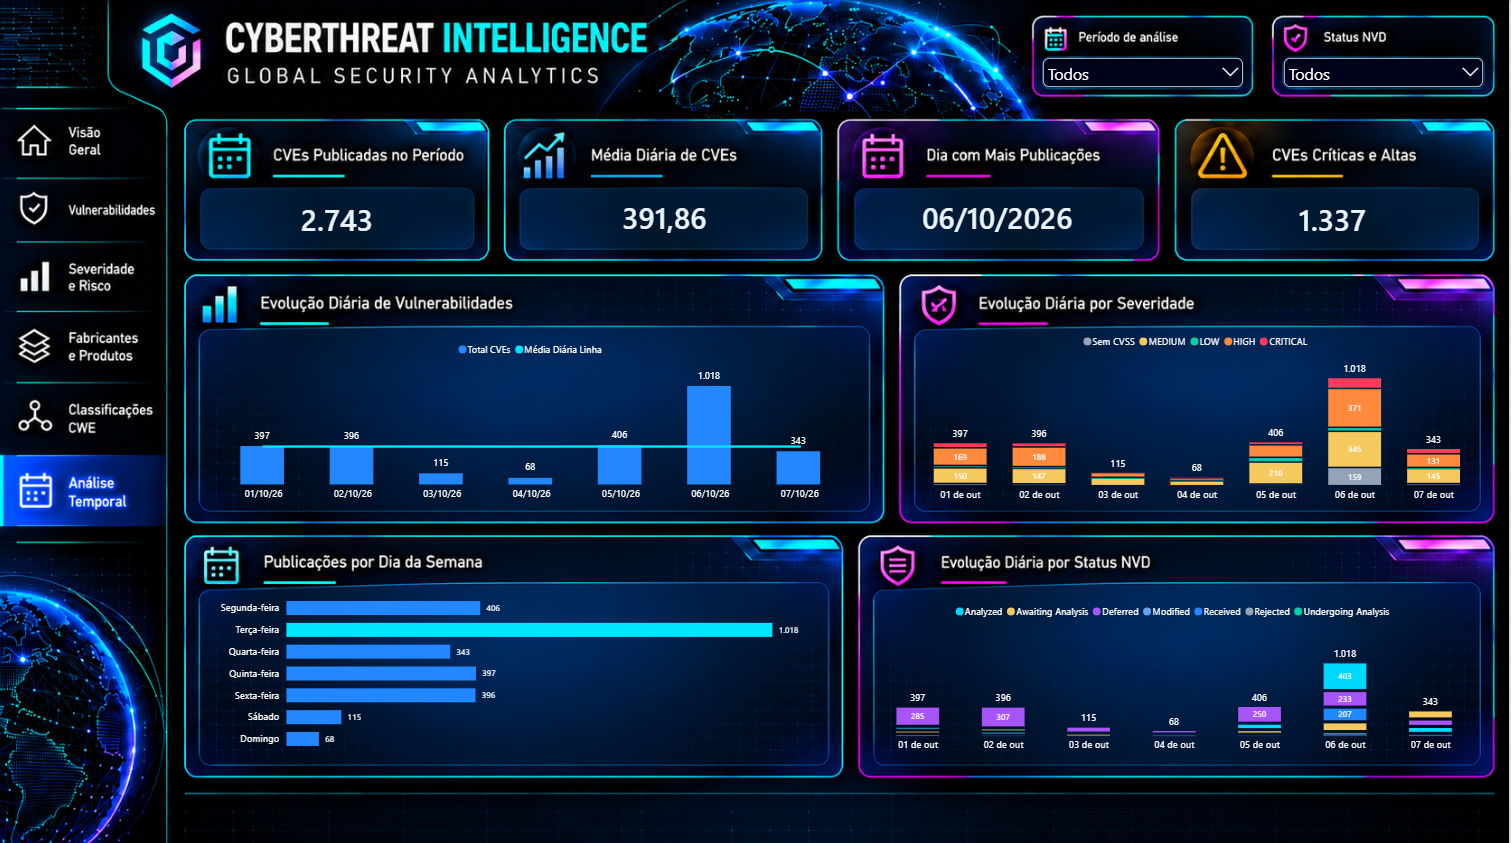

What the dashboard file says about the page in this screenshot:
{"tool":"powerbi","page":{"name":"Análise Temporal","canvas":[1920,1080],"ordinal":5},"visuals":[{"type":"card","fields":{"Values":["_Medidas.Total CVEs"]},"box":[260.1,238.4,340.4,81.6],"z":0},{"type":"slicer","fields":{"Values":["dim_data.data"]},"box":[1322.4,68.7,263.9,126.6],"z":1000},{"type":"slicer","fields":{"Values":["dim_status.status_nvd"]},"box":[1629.4,68.7,262.6,127.9],"z":2000},{"type":"card","fields":{"Values":["_Medidas.Média Diária de CVEs"]},"box":[662.6,236.8,367.1,80.8],"z":3000},{"type":"card","fields":{"Values":["_Medidas.Dia com Mais Publicações Exibição"]},"box":[1086.7,236.8,367.1,80.8],"z":4000},{"type":"card","fields":{"Values":["_Medidas.CVEs Críticas e Altas"]},"box":[1512.5,238.6,367.1,80.8],"z":5000},{"type":"lineClusteredColumnComboChart","fields":{"Category":["dim_data.data"],"Y":["_Medidas.Total CVEs"],"Y2":["_Medidas.Média Diária Linha"]},"box":[246.4,416.1,863.2,241],"z":6000},{"type":"columnChart","fields":{"Category":["dim_data.data"],"Series":["fato_vulnerabilidade.Severidade CVSS Exibição"],"Y":["_Medidas.Total CVEs"]},"box":[1166.2,405.3,713.7,251.8],"z":7000},{"type":"clusteredBarChart","fields":{"Category":["dim_data.dia_semana_nome"],"Y":["_Medidas.Total CVEs"]},"box":[259.9,731.2,789.1,245.1],"z":8000},{"type":"columnChart","fields":{"Category":["dim_data.data"],"Series":["fato_vulnerabilidade.status_nvd"],"Y":["_Medidas.Total CVEs"]},"box":[1109.6,748.7,770.3,227.6],"z":9000},{"type":"actionButton","box":[0,237.6,100.4,55.9],"z":10000},{"type":"actionButton","box":[10.2,322.7,81.3,66.1],"z":11000},{"type":"actionButton","box":[10.2,420.6,78.8,57.2],"z":12000},{"type":"actionButton","box":[0,501.2,88.9,59.7],"z":12001},{"type":"actionButton","box":[22.5,156.2,52.5,53.8],"z":12002}]}

Visuals, with their boxes on the page's 1920x1080 design canvas (x1, y1, x2, y2). These are canvas units, not pixel positions in the 1511x843 screenshot, which may show the page scaled, cropped or inside an application window:
card - _Medidas.Total CVEs: region(260, 238, 600, 320)
slicer - dim_data.data: region(1322, 69, 1586, 195)
slicer - dim_status.status_nvd: region(1629, 69, 1892, 197)
card - _Medidas.Média Diária de CVEs: region(663, 237, 1030, 318)
card - _Medidas.Dia com Mais Publicações Exibição: region(1087, 237, 1454, 318)
card - _Medidas.CVEs Críticas e Altas: region(1512, 239, 1880, 319)
lineClusteredColumnComboChart - dim_data.data x _Medidas.Total CVEs: region(246, 416, 1110, 657)
columnChart - dim_data.data x fato_vulnerabilidade.Severidade CVSS Exibição: region(1166, 405, 1880, 657)
clusteredBarChart - dim_data.dia_semana_nome x _Medidas.Total CVEs: region(260, 731, 1049, 976)
columnChart - dim_data.data x fato_vulnerabilidade.status_nvd: region(1110, 749, 1880, 976)
actionButton: region(0, 238, 100, 294)
actionButton: region(10, 323, 92, 389)
actionButton: region(10, 421, 89, 478)
actionButton: region(0, 501, 89, 561)
actionButton: region(22, 156, 75, 210)
